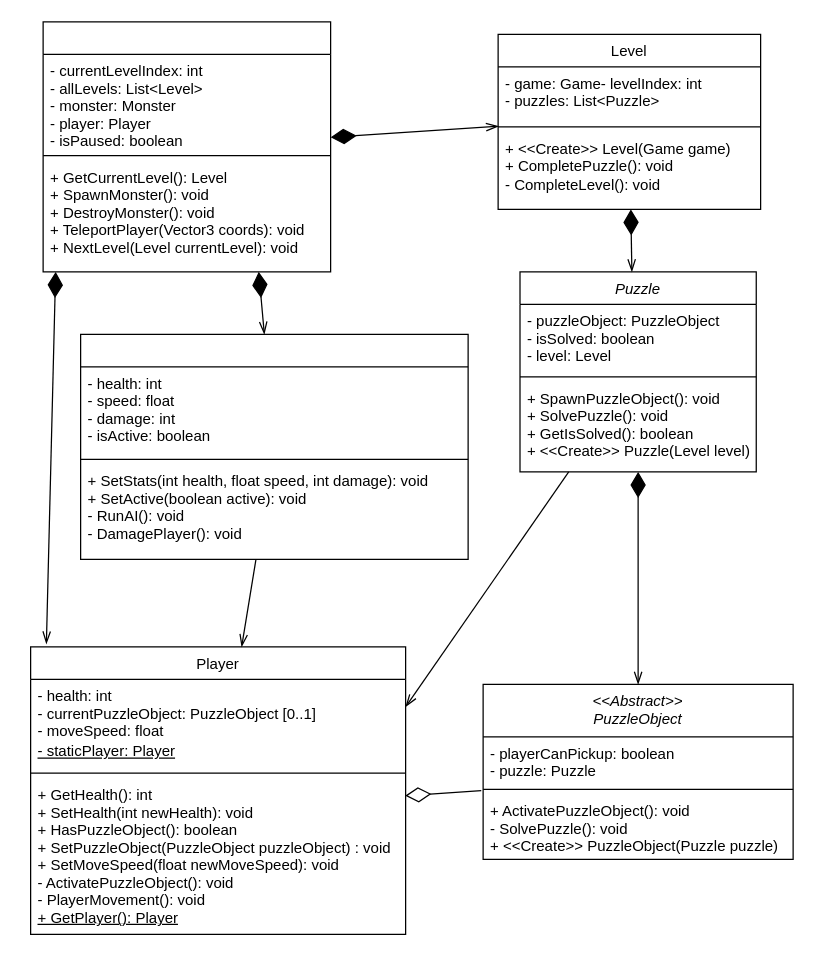
This 816x956 diagram has some shape labels left out. The shapes that lost their labels are listed below. From the top down, each one's box as (x1, y1, x2, y2) in pixels, then its label:
(42, 21, 331, 272): Game
(79, 333, 468, 559): Monster
